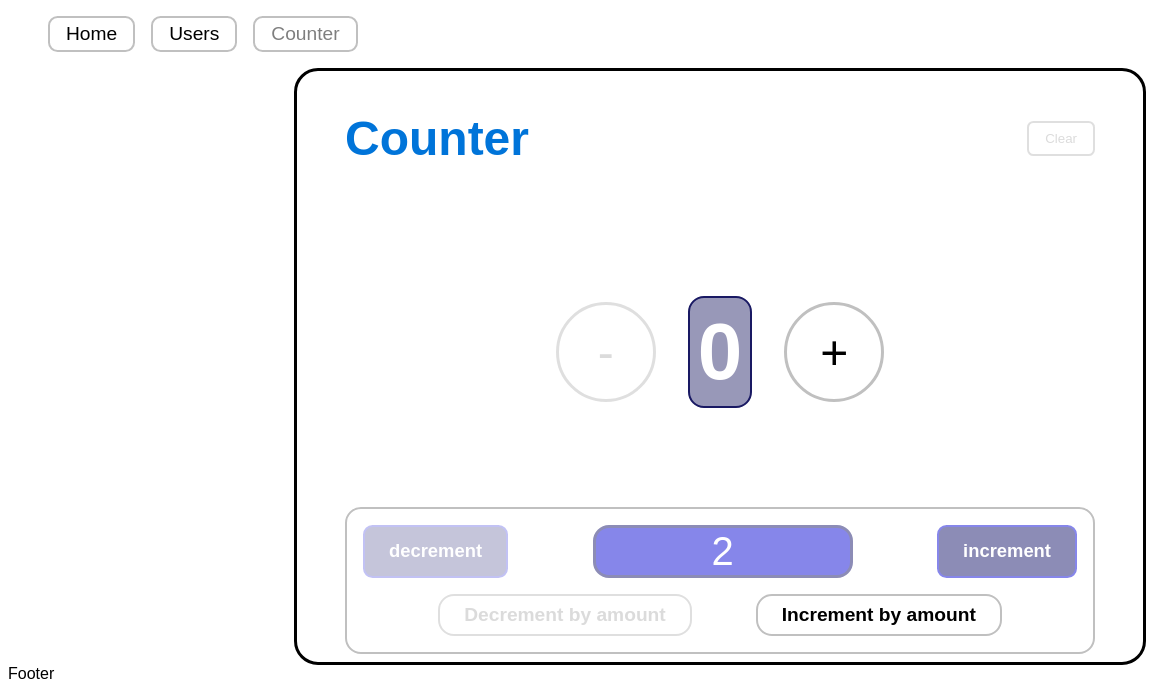
Test Notification › Test notification elements › Test closing button
What coordinates should you click on to do the following:
click the heading with test id "global-counter-value"
I would click on:
 (720, 352)
Its box is [688,296,752,408].
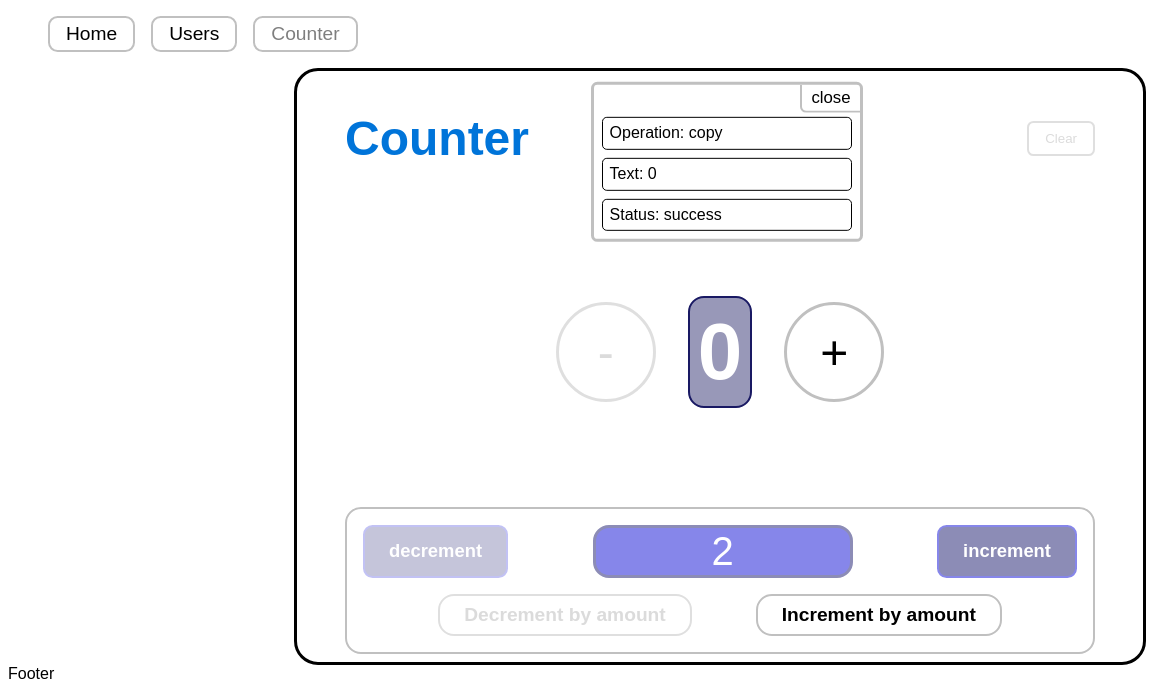
Expected: the element with test id "notification-box" is shown, [591,82,863,242]
What coordinates should you click on to do the following:
click the button "close"
I would click on:
 (830, 99)
Its box is [800,85,860,113].
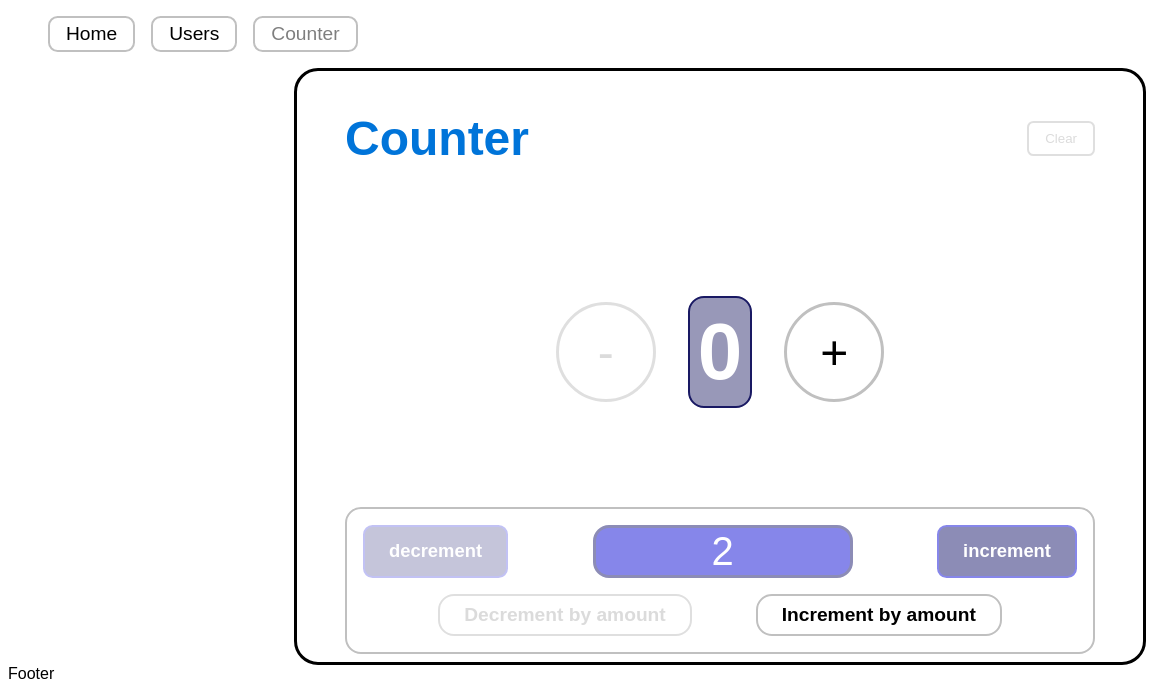
Expected: the element with test id "notification-box" is gone
